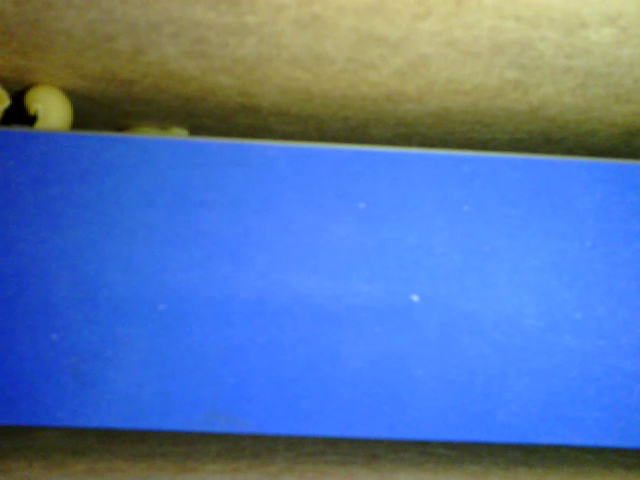shell: (24, 85, 75, 134)
